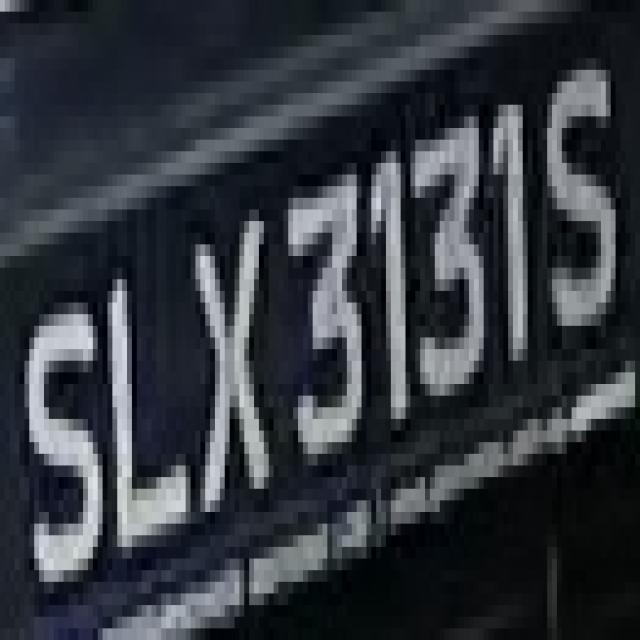1: (357, 116, 425, 477), (489, 93, 547, 407)
3: (401, 104, 478, 430), (284, 163, 362, 465)
L: (88, 268, 195, 570)
S: (532, 35, 626, 349), (14, 302, 98, 594)
X: (176, 175, 283, 535)
